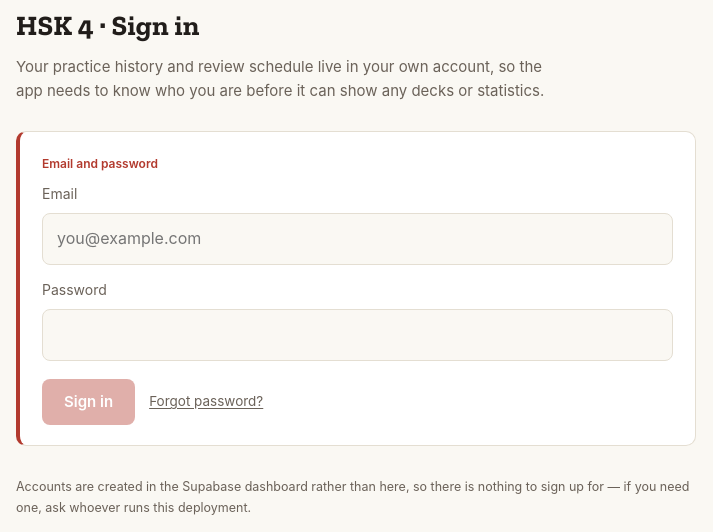
Test case: LoginComponent › shows why a reset email could not be sent
Type "learner@example.com" into the field labelled "Email" at (358,239), box x1=42 y1=213 x2=673 y2=265
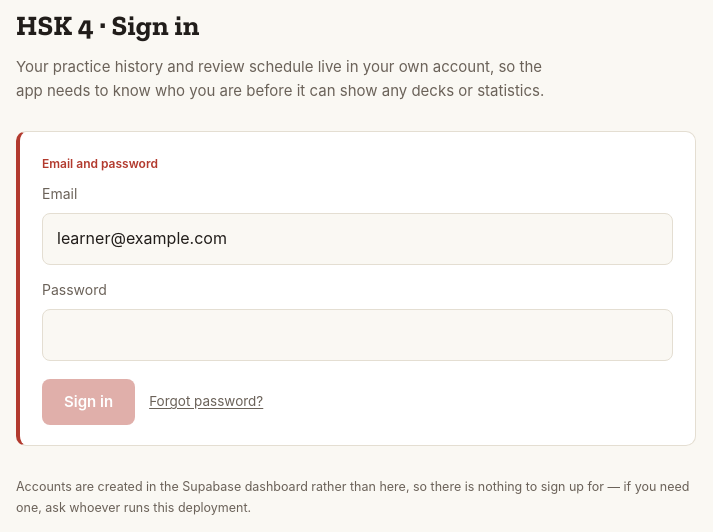
Click the button with class "linkbtn" at (206,402), box x1=149 y1=387 x2=263 y2=417
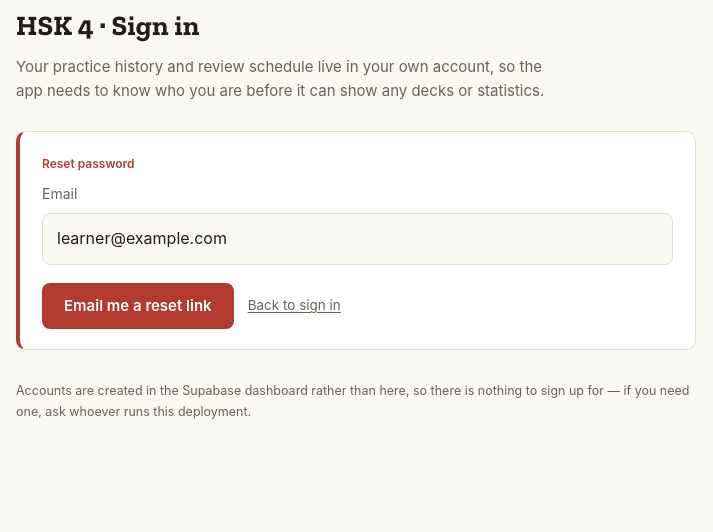
Submit the form, box x1=16 y1=131 x2=696 y2=350
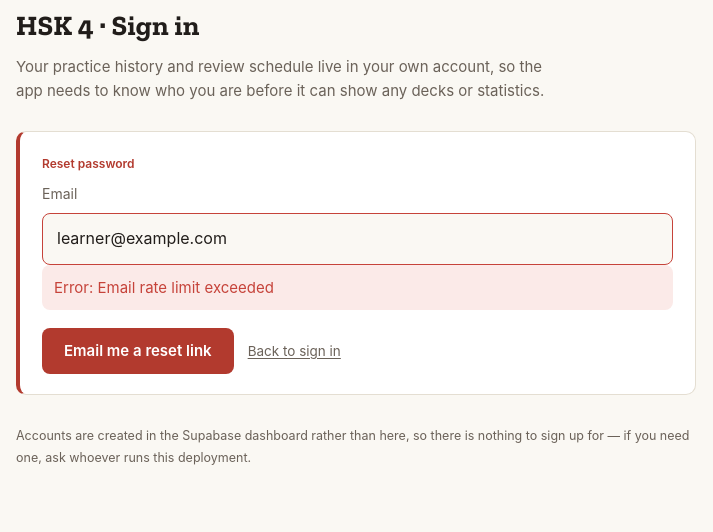
Now the message "Error: Email rate limit exceeded" is shown, box x1=42 y1=265 x2=673 y2=310
